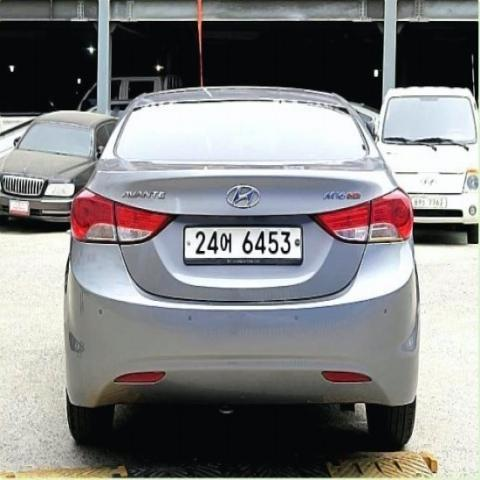LP: (181, 218, 308, 268)
